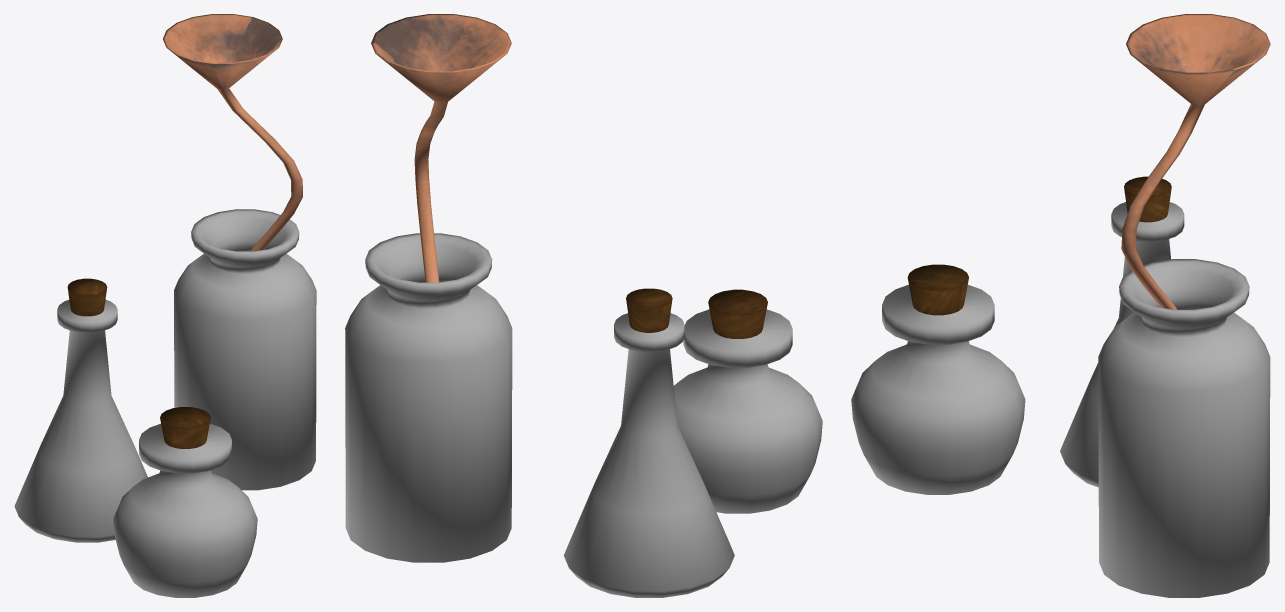
The model's file is FlaskSet.fbx.
3 views of the same model, side by side, from view 1: azimuth 30°, elevation 25°; view 2: azimuth 150°, elevation 25°; view 3: azimuth 270°, elevation 25° (orthographic). The views are drawn at different scales.
Parts seen in each view (by area): view 1: FlaskSet; view 2: FlaskSet; view 3: FlaskSet.
Boxes of the visible parts, bbox=[...] form: FlaskSet: bbox=[14, 14, 316, 597]; FlaskSet: bbox=[345, 14, 822, 597]; FlaskSet: bbox=[851, 14, 1270, 597].
Size of the model in its own units: 29.76 by 40.61 by 30.3.
